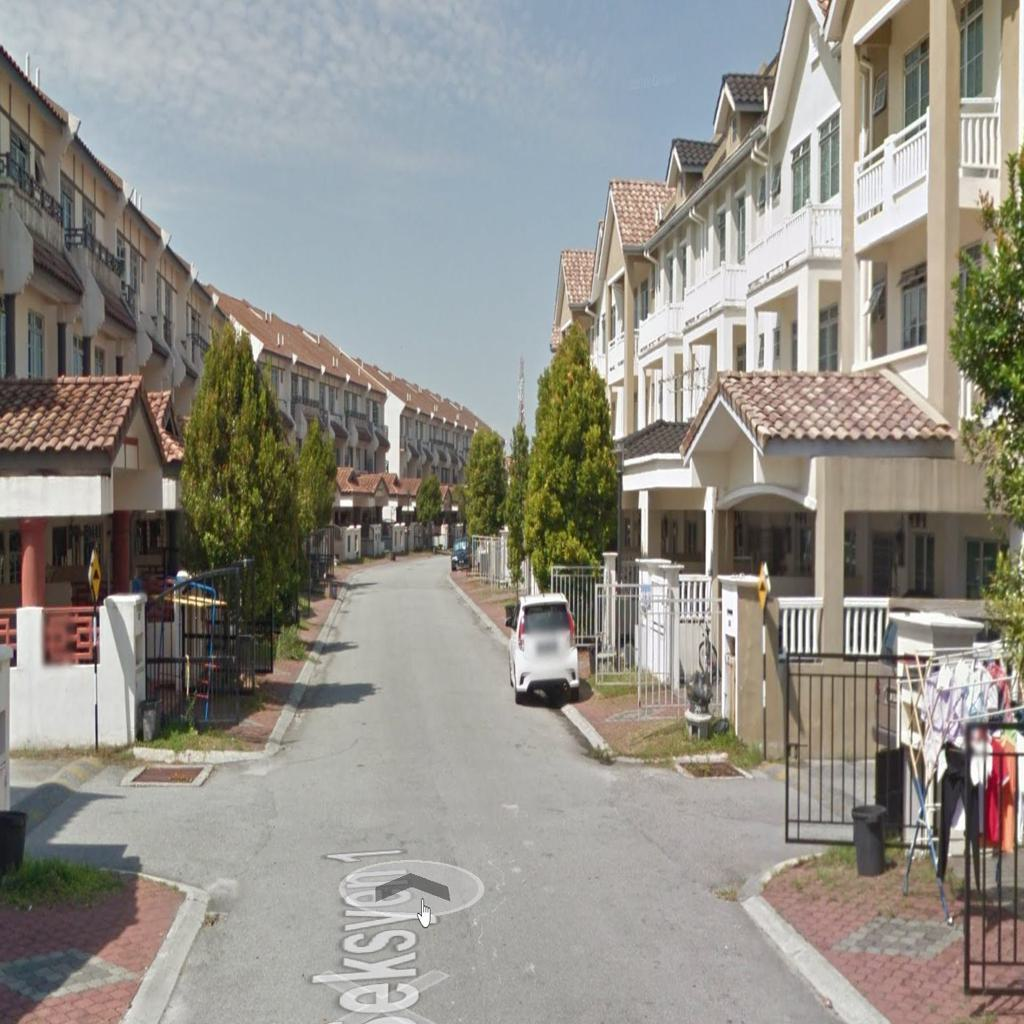Junction: (574, 710, 890, 911), (14, 717, 324, 910)
